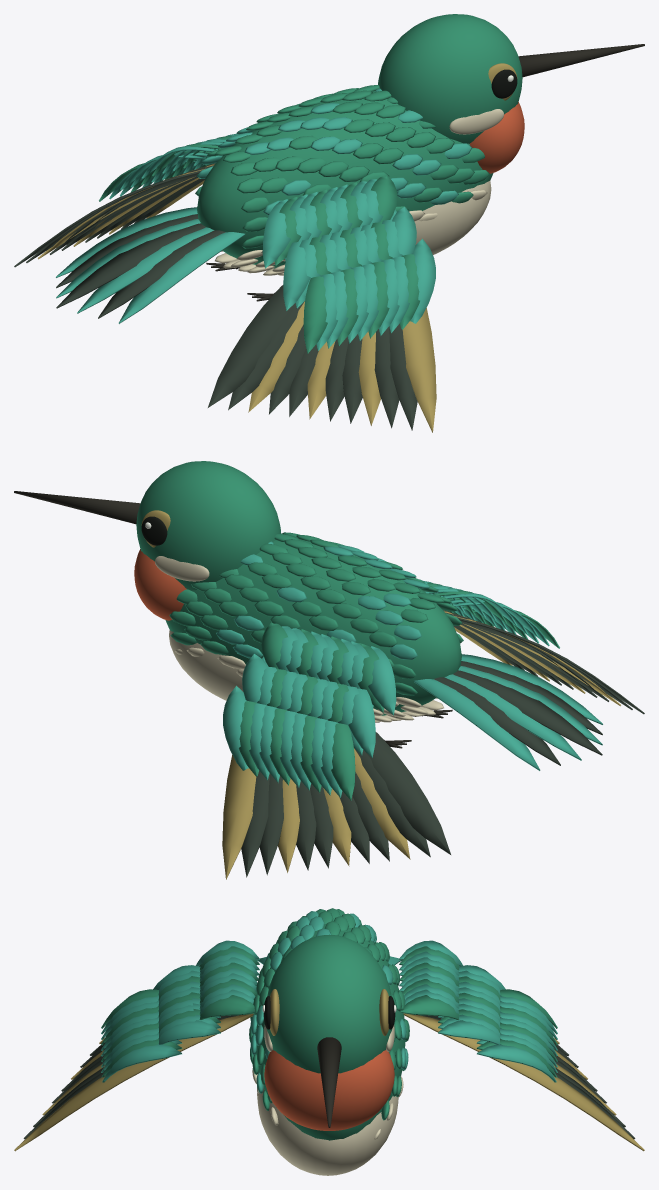
File: Hummingbird.fbx
The picture shows the model from 3 angles, top to bottom: view 1: azimuth 30°, elevation 25°; view 2: azimuth 150°, elevation 25°; view 3: azimuth 270°, elevation 25°; orthographic projection. The views are drawn at different scales.
Visible parts, largest first — view 1: Hummingbird_Iridescent emerald, WingNear_Jade feathers, WingNear_Flight feather charcoal, Hummingbird_Jade feathers, WingNear_Iridescent emerald, WingNear_Bronze feather edges, Hummingbird_Flight feather charcoal, Hummingbird_Warm ivory down, WingFar_Flight feather charcoal, Hummingbird_Copper ruby throat, WingFar_Jade feathers, Hummingbird_Graphite beak (+2 smaller); view 2: Hummingbird_Iridescent emerald, WingFar_Jade feathers, WingFar_Flight feather charcoal, Hummingbird_Jade feathers, WingFar_Iridescent emerald, WingFar_Bronze feather edges, Hummingbird_Flight feather charcoal, Hummingbird_Warm ivory down, WingNear_Flight feather charcoal, Hummingbird_Copper ruby throat, WingNear_Jade feathers, Hummingbird_Graphite beak (+2 smaller); view 3: Hummingbird_Iridescent emerald, WingFar_Jade feathers, WingNear_Jade feathers, Hummingbird_Copper ruby throat, Hummingbird_Warm ivory down, WingNear_Iridescent emerald, WingFar_Iridescent emerald, WingFar_Bronze feather edges, WingNear_Bronze feather edges, Hummingbird_Jade feathers, Hummingbird_Graphite beak, WingFar_Flight feather charcoal (+3 smaller).
Part boxes in pixels (x1=…): Hummingbird_Iridescent emerald: x1=195, y1=14, x2=522, y2=268; WingNear_Jade feathers: x1=262, y1=179, x2=435, y2=351; WingNear_Flight feather charcoal: x1=208, y1=285, x2=417, y2=430; Hummingbird_Jade feathers: x1=56, y1=88, x2=472, y2=323; WingNear_Iridescent emerald: x1=274, y1=176, x2=419, y2=353; WingNear_Bronze feather edges: x1=248, y1=301, x2=436, y2=432; Hummingbird_Flight feather charcoal: x1=56, y1=214, x2=225, y2=318; Hummingbird_Warm ivory down: x1=215, y1=109, x2=503, y2=275; WingFar_Flight feather charcoal: x1=14, y1=163, x2=215, y2=267; Hummingbird_Copper ruby throat: x1=469, y1=102, x2=524, y2=173; WingFar_Jade feathers: x1=109, y1=133, x2=238, y2=199; Hummingbird_Graphite beak: x1=206, y1=44, x2=644, y2=301; Hummingbird_Iridescent emerald: x1=136, y1=461, x2=463, y2=715; WingFar_Jade feathers: x1=223, y1=626, x2=396, y2=798; WingFar_Flight feather charcoal: x1=241, y1=732, x2=450, y2=877; Hummingbird_Jade feathers: x1=216, y1=533, x2=602, y2=770; WingFar_Iridescent emerald: x1=239, y1=622, x2=384, y2=800; WingFar_Bronze feather edges: x1=222, y1=748, x2=410, y2=879; Hummingbird_Flight feather charcoal: x1=433, y1=661, x2=602, y2=765; Hummingbird_Warm ivory down: x1=155, y1=556, x2=443, y2=722; WingNear_Flight feather charcoal: x1=443, y1=610, x2=644, y2=714; Hummingbird_Copper ruby throat: x1=134, y1=549, x2=186, y2=620; WingNear_Jade feathers: x1=419, y1=579, x2=549, y2=646; Hummingbird_Graphite beak: x1=14, y1=491, x2=452, y2=748; Hummingbird_Iridescent emerald: x1=249, y1=908, x2=409, y2=1140; WingFar_Jade feathers: x1=399, y1=940, x2=557, y2=1082; WingNear_Jade feathers: x1=101, y1=940, x2=259, y2=1082; Hummingbird_Copper ruby throat: x1=264, y1=1050, x2=394, y2=1130; Hummingbird_Warm ivory down: x1=252, y1=1025, x2=403, y2=1175; WingNear_Iridescent emerald: x1=101, y1=946, x2=259, y2=1077; WingFar_Iridescent emerald: x1=399, y1=946, x2=557, y2=1077; WingFar_Bronze feather edges: x1=403, y1=1013, x2=644, y2=1151; WingNear_Bronze feather edges: x1=14, y1=1013, x2=253, y2=1151; Hummingbird_Jade feathers: x1=250, y1=911, x2=408, y2=1093; Hummingbird_Graphite beak: x1=317, y1=1037, x2=341, y2=1127; WingFar_Flight feather charcoal: x1=418, y1=1015, x2=635, y2=1139.
Bounding box in the file's own units: 248 × 108 × 211.
